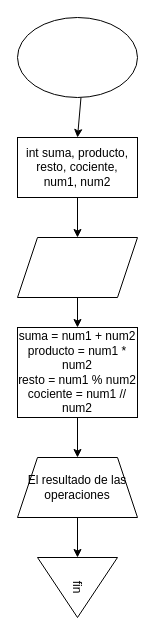
Some shapes in this 155 by 635 pixel diagram are drawn without their labels. The shapes that lost their labels are listed below. From the top down, each one's box as (x1, y1, x2, y2) in pixels, then its label:
(16, 16, 138, 98): Operaciones
(16, 236, 138, 298): Se ingresan los números
